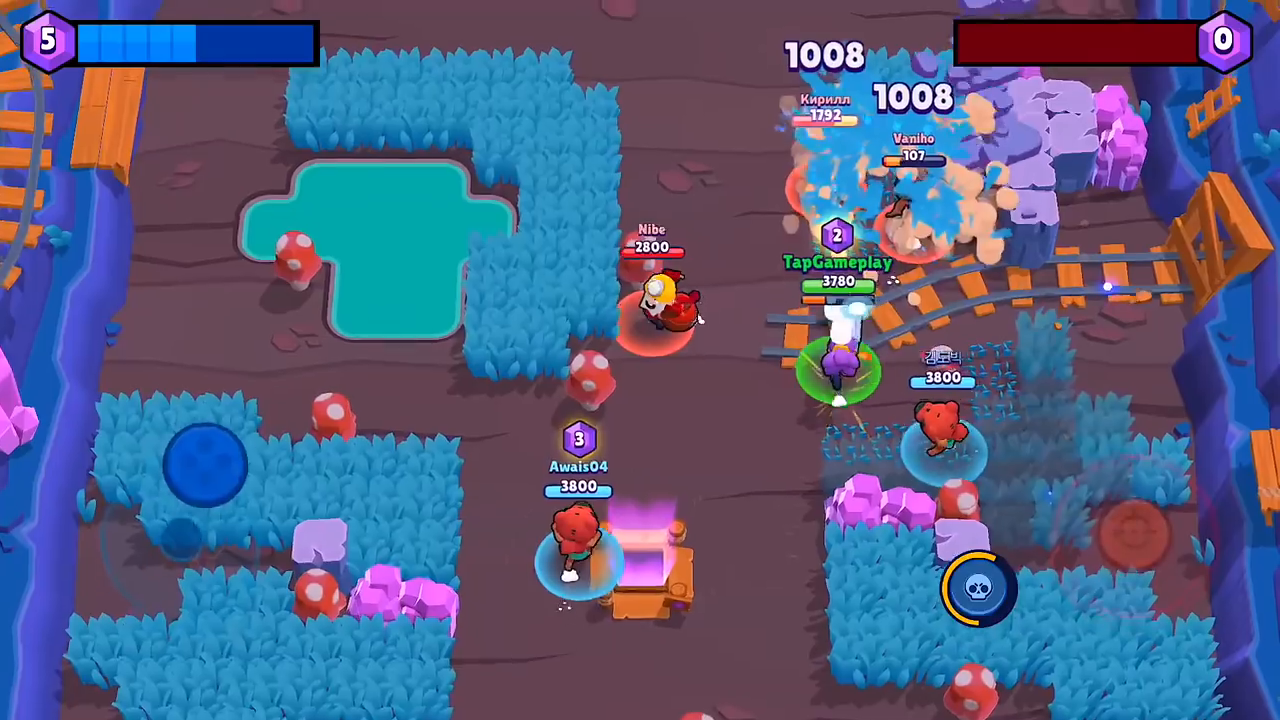move_stick: (167, 421, 246, 501)
red: (616, 219, 688, 357), (880, 142, 958, 268), (787, 106, 874, 218)
